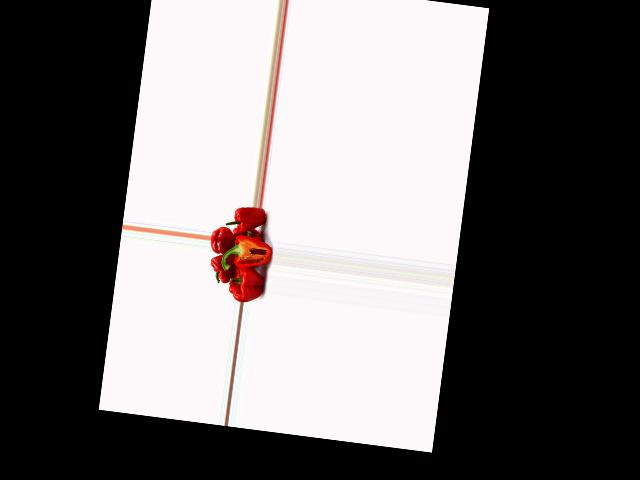bell_pepper: (207, 252, 235, 285)
